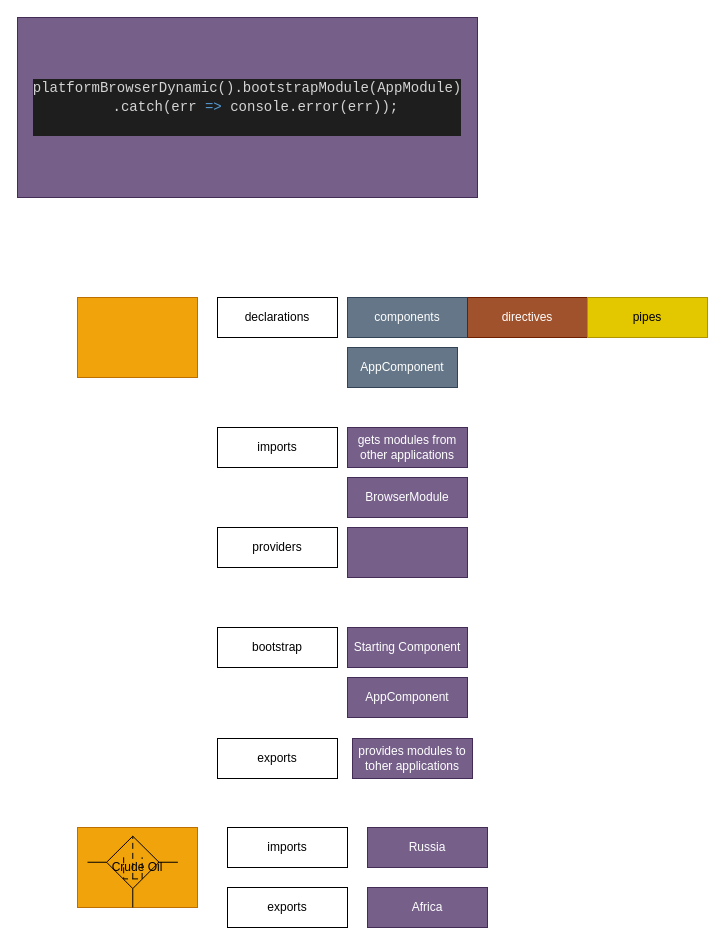
The diagram is 725 pixels wide and 945 high, and some of its shapes have lost their labels. Here are the shapes that lost their labels. From the top down, the centre of each, then its label:
At (137,337): "AppModule".
At (407,552): "Dependency Injection for services / List of services".
